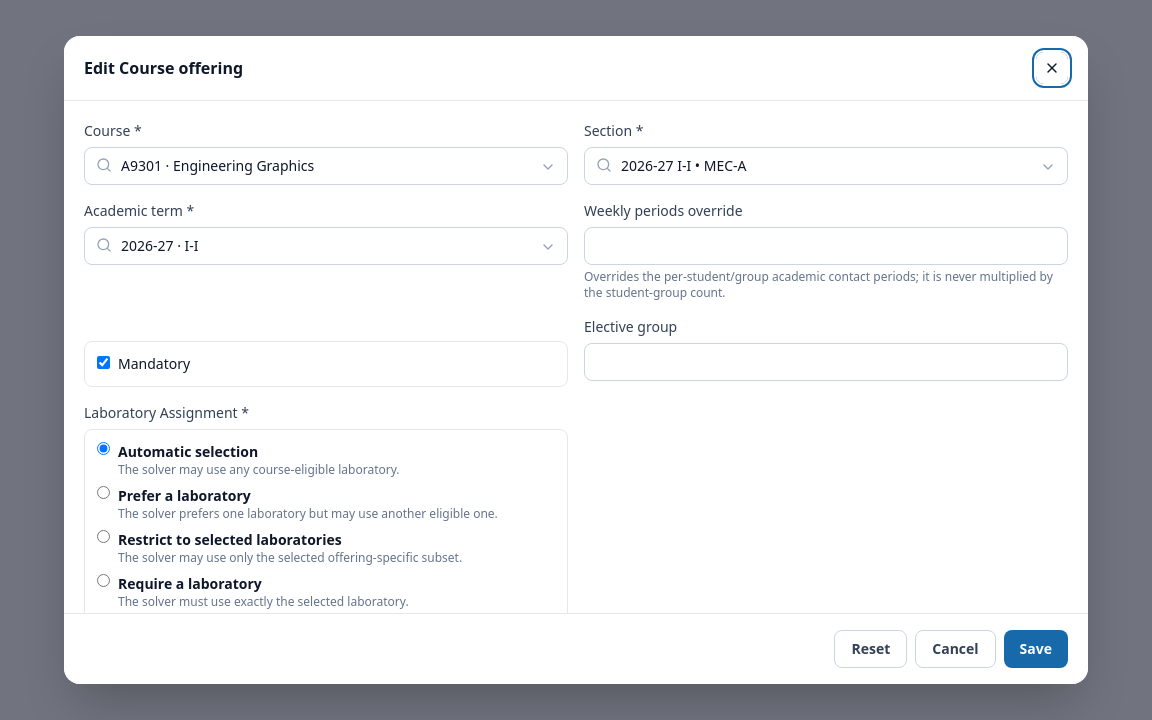
Test: master record form › supports AUTO, PREFERRED, and FIXED offering laboratory assignment
Check: the radio button labelled "Automatic selection" is checked, box x1=97 y1=442 x2=110 y2=455
Check: the field labelled "Required Laboratory *" is not shown
What coordinates should you click on to do the following:
click the radio button labelled "Require a laboratory"
I would click on:
 (104, 580)
Its box is x1=97 y1=574 x2=110 y2=587.
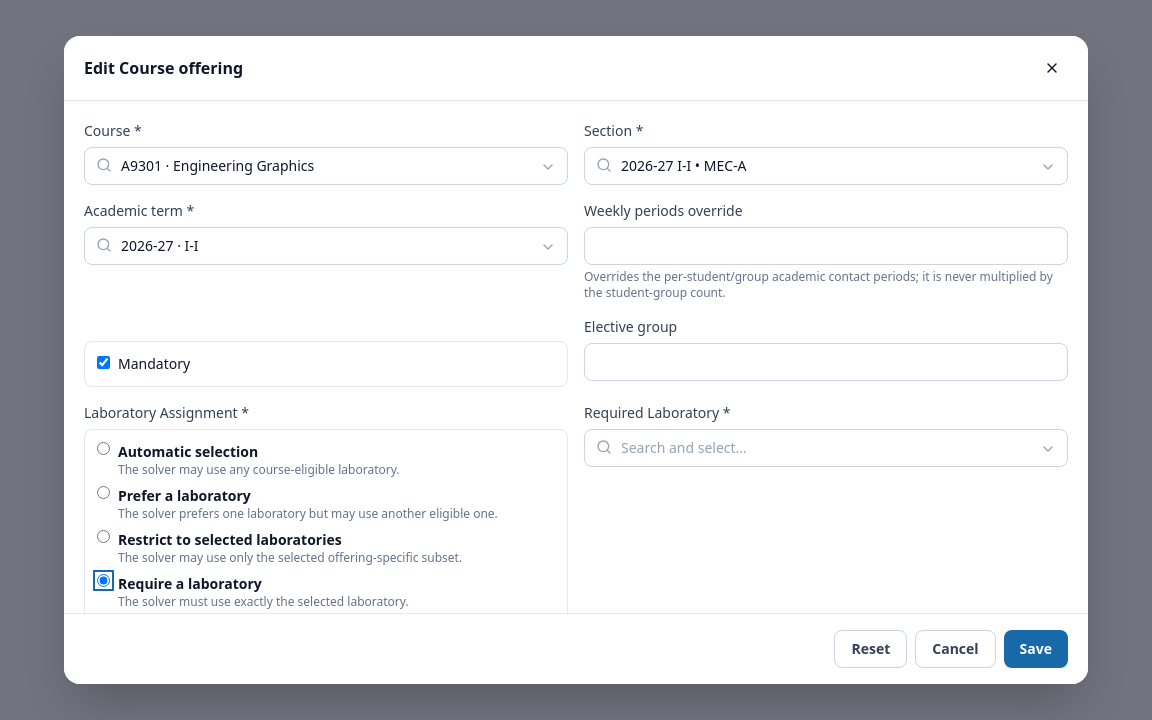
Check: the dropdown labelled "Required Laboratory *" is shown, box x1=584 y1=429 x2=1068 y2=467
What coordinates should you click on to do the following:
click the button "Save"
I would click on:
 (1036, 649)
Its box is x1=1004 y1=630 x2=1068 y2=668.
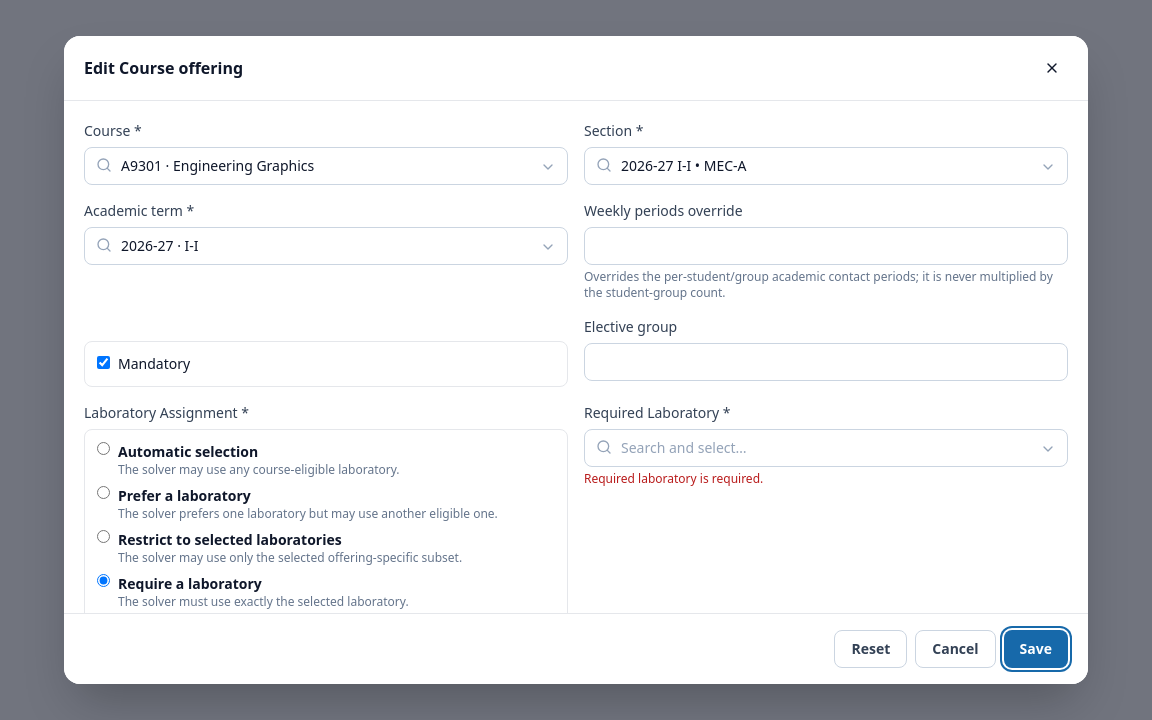
Check: the text "Required laboratory is required." is shown, box x1=584 y1=470 x2=763 y2=487
